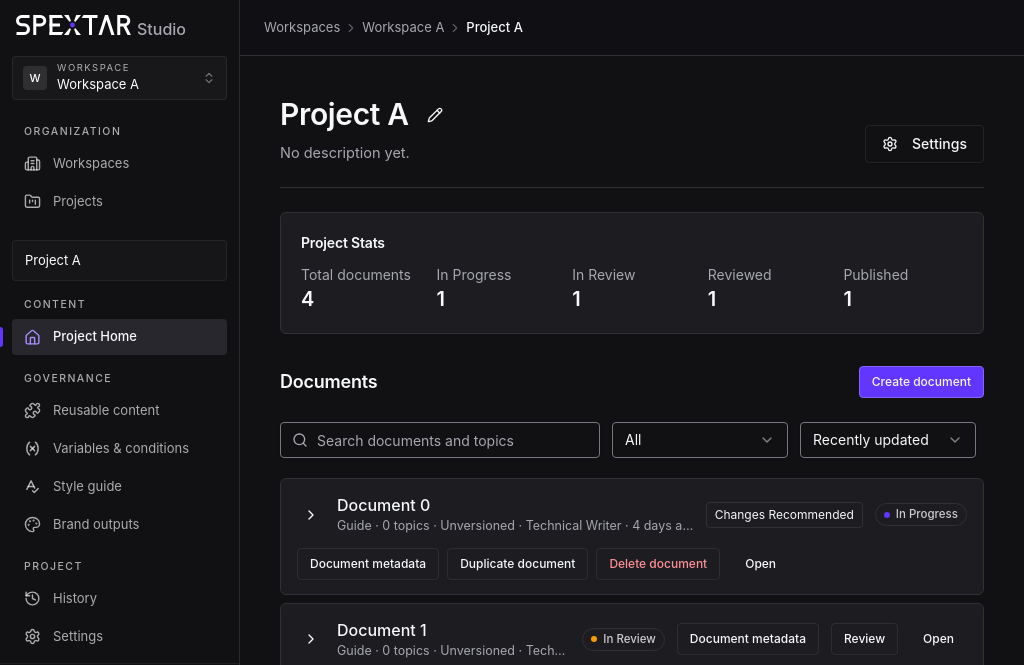
Scenario: Project document hub › retains edits and reports a failed rename without a reload
Expected: the heading "Project Stats" is shown, [301,234,385,251]
Click the button named "Edit project name".
click(435, 115)  # box [417,97,453,133]
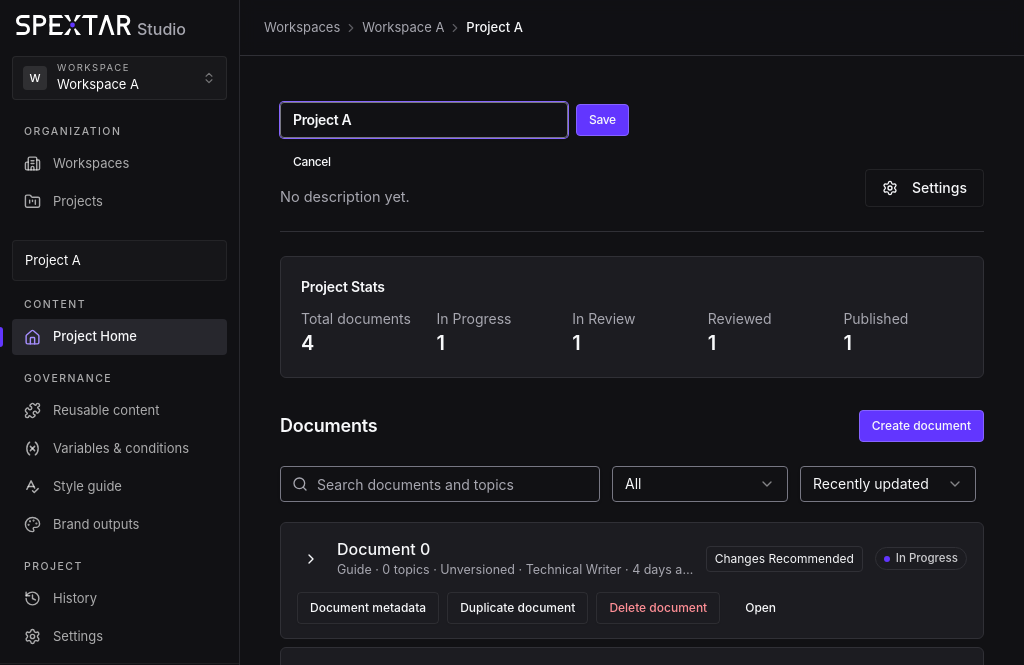
Replace the text in the field named "Project name" with "My edit" at (424, 120), box [280,102,568,138]
Then press Enter
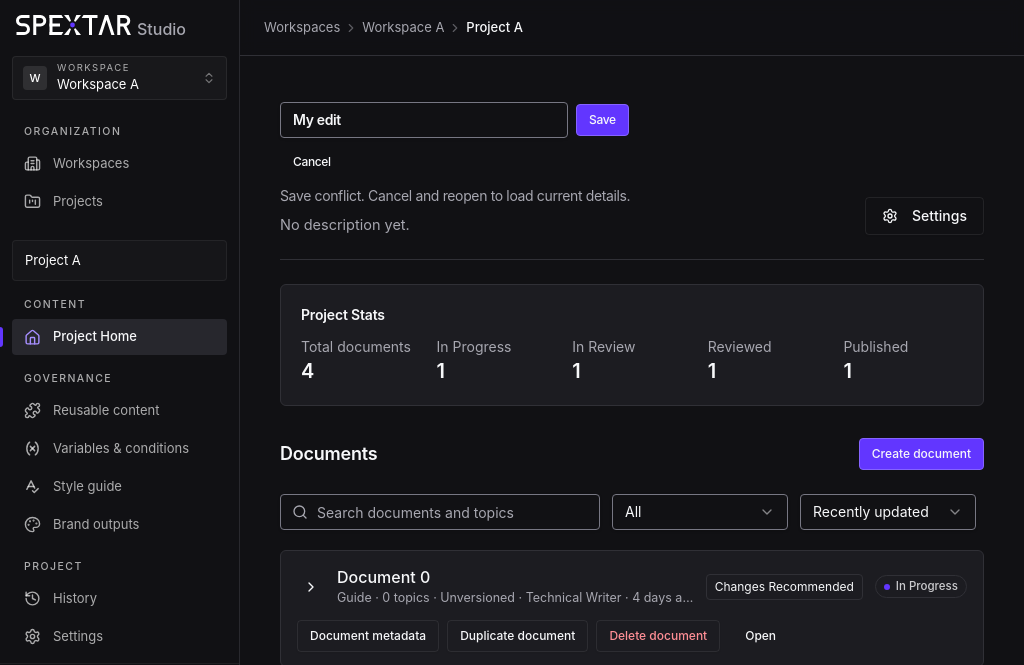
Expected: the text "Project A" below "Projects" is shown, [25,252,81,268]
Expected: the message shows "Save conflict", [280,186,630,204]
